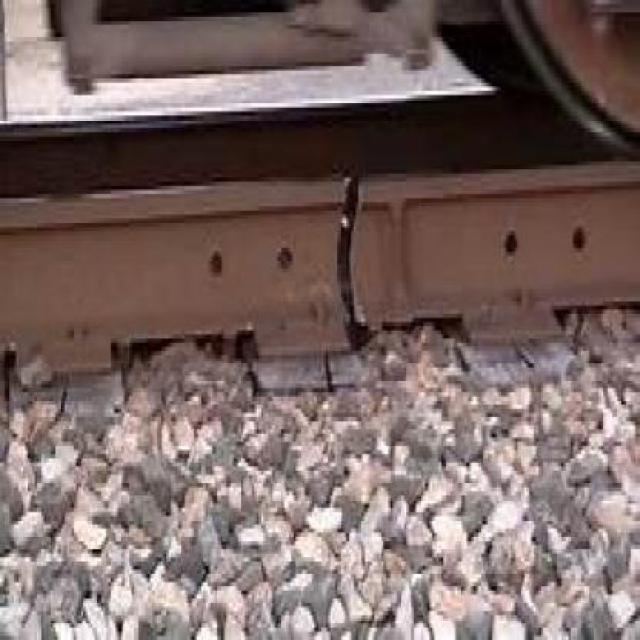defective: (26, 72, 640, 497)
